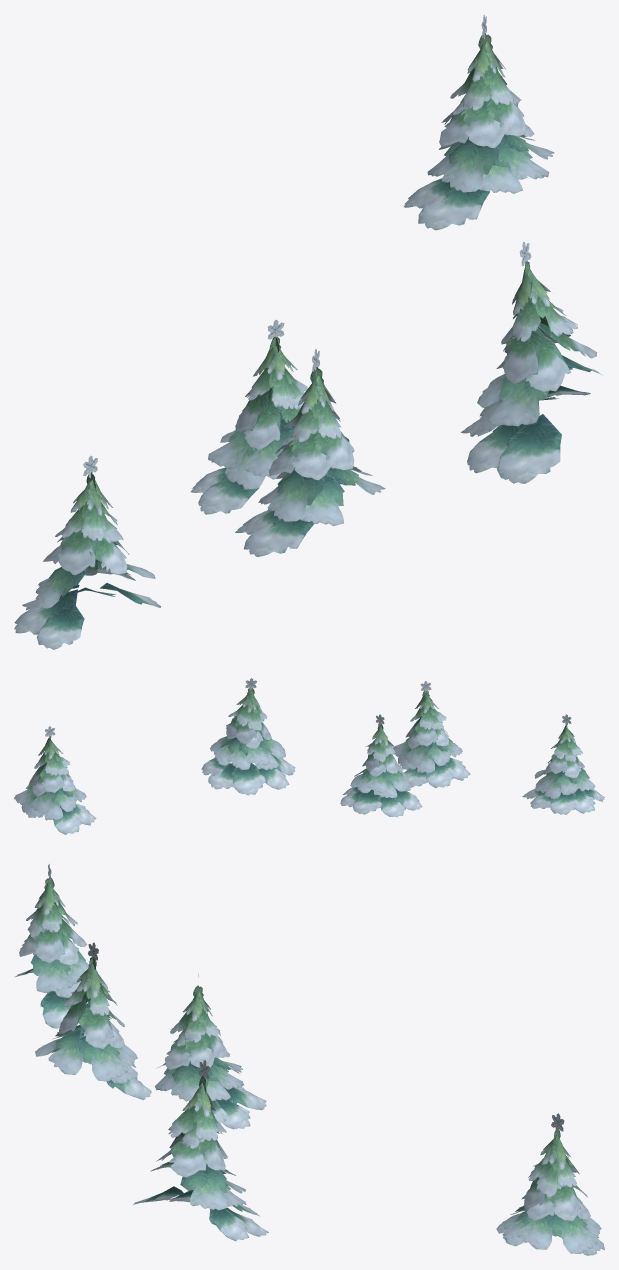
The model's file is pref_sm_beach_bk_winter_pointmol_longplant_L04_lv1.fbx.
3 views of the same model, one above another, from view 1: azimuth 30°, elevation 25°; view 2: azimuth 150°, elevation 25°; view 3: azimuth 270°, elevation 25° (orthographic). The views are drawn at different scales.
Parts seen in each view (by area): view 1: pref_sm_beach_bk_winter_pointmol_longplant_L04_lv1; view 2: pref_sm_beach_bk_winter_pointmol_longplant_L04_lv1; view 3: pref_sm_beach_bk_winter_pointmol_longplant_L04_lv1.
Part boxes in pixels (bbox=[...]): pref_sm_beach_bk_winter_pointmol_longplant_L04_lv1: bbox=[14, 14, 601, 649]; pref_sm_beach_bk_winter_pointmol_longplant_L04_lv1: bbox=[14, 678, 604, 834]; pref_sm_beach_bk_winter_pointmol_longplant_L04_lv1: bbox=[14, 864, 604, 1255].
Bounding box in the file's own units: 36.3 × 9.57 × 27.74.
